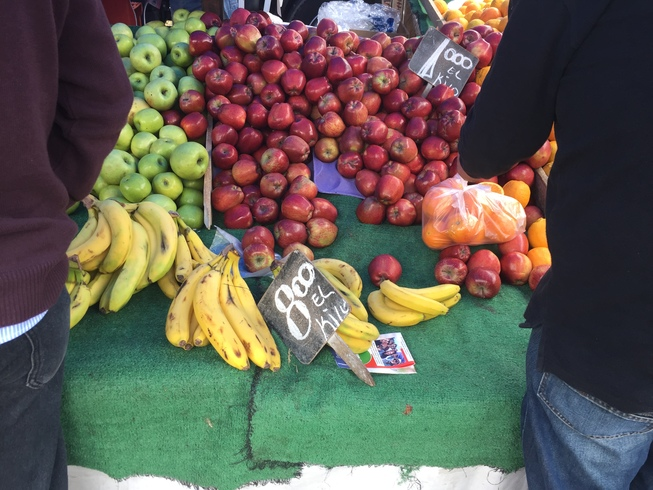precio: (251, 250, 360, 384), (403, 25, 484, 107)
